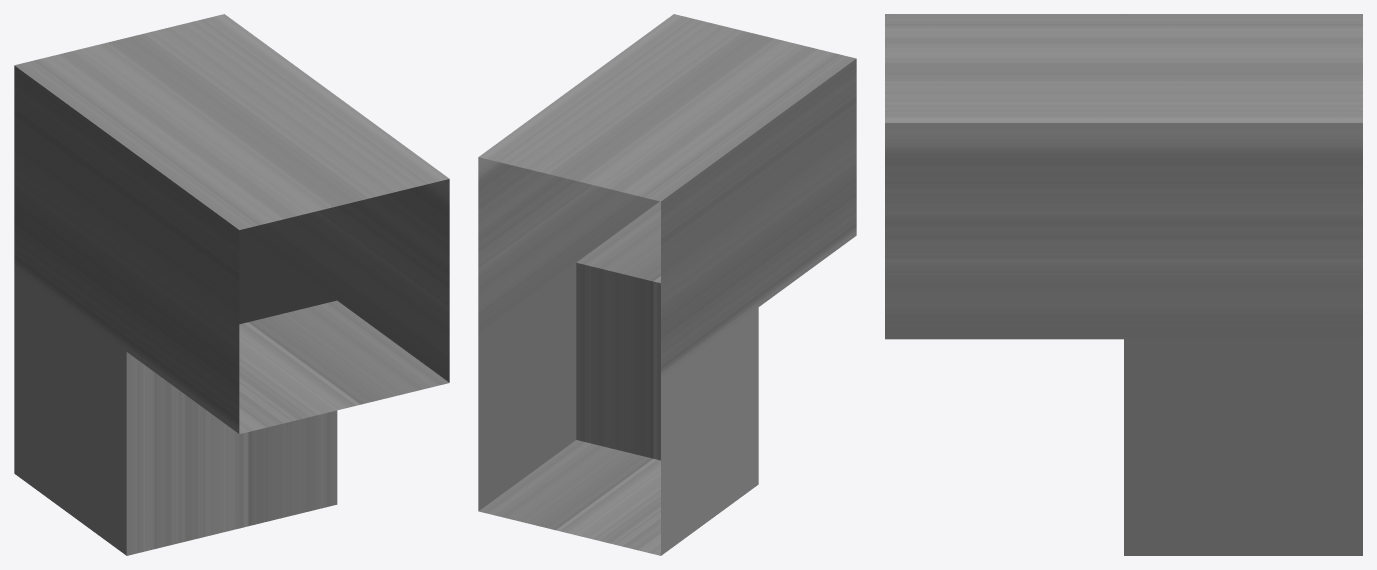
The model's file is corner.gltf.
3 views of the same model, side by side, from view 1: azimuth 30°, elevation 25°; view 2: azimuth 150°, elevation 25°; view 3: azimuth 270°, elevation 25° (orthographic). The views are drawn at different scales.
Visible parts, largest first — view 1: Cube.001; view 2: Cube.001; view 3: Cube.001.
Boxes of the visible parts, <box> form: Cube.001: <box>14,14,449,555</box>; Cube.001: <box>478,14,856,555</box>; Cube.001: <box>885,14,1362,555</box>.
Bounding box in the file's own units: 0.4313 × 0.7999 × 0.8.
Materials: 1 (1 with a texture image).
